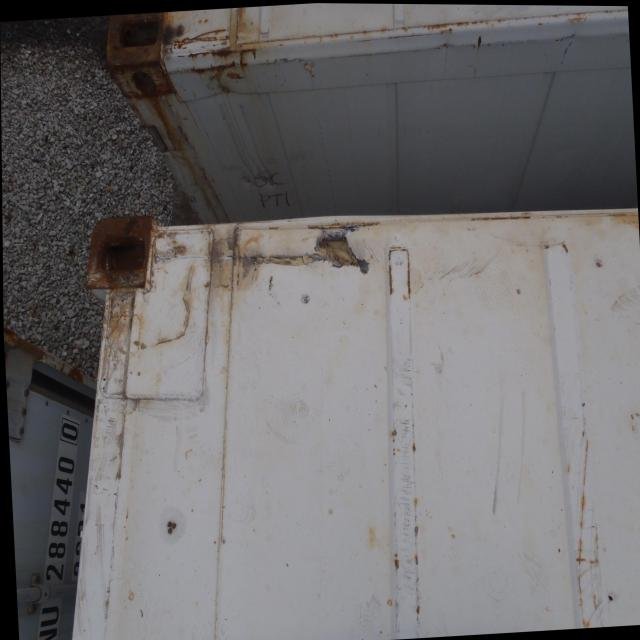hole: (226, 235, 368, 290)
